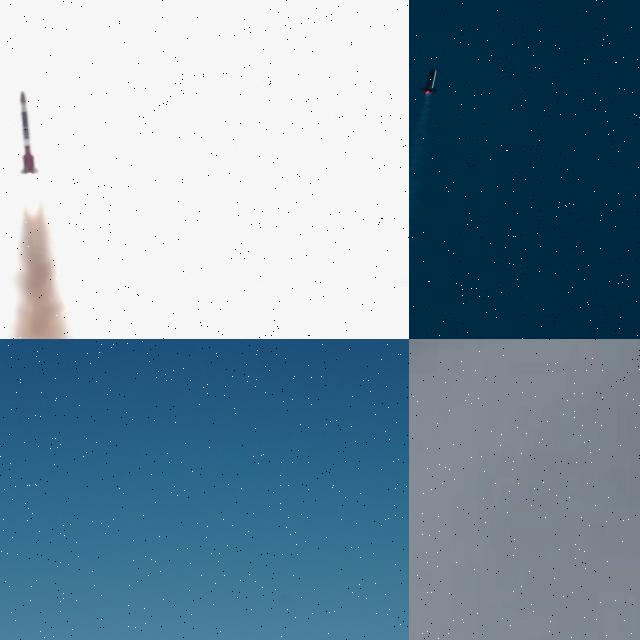Rocket: (20, 91, 38, 174), (419, 68, 439, 98)
